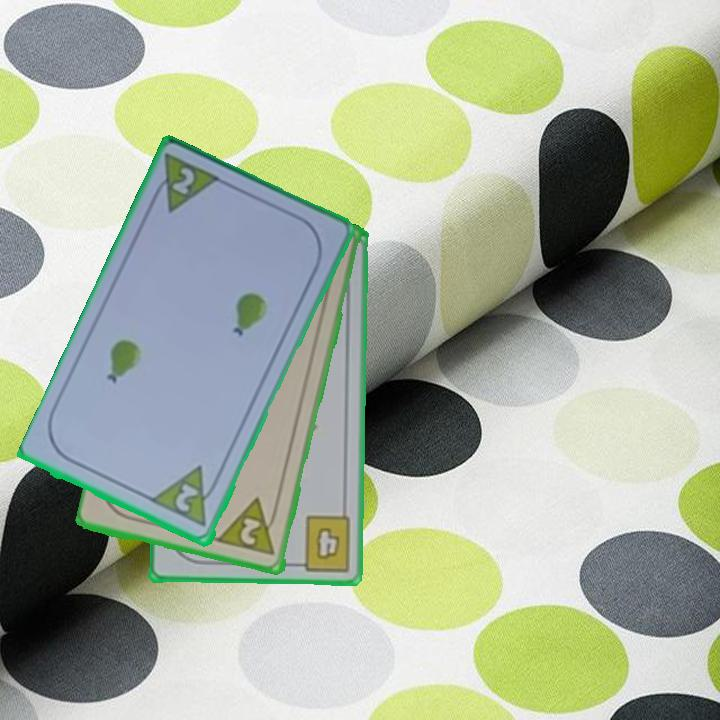2p: (146, 151, 225, 217), (150, 463, 224, 531), (215, 494, 283, 559)
4b: (290, 512, 354, 574)
